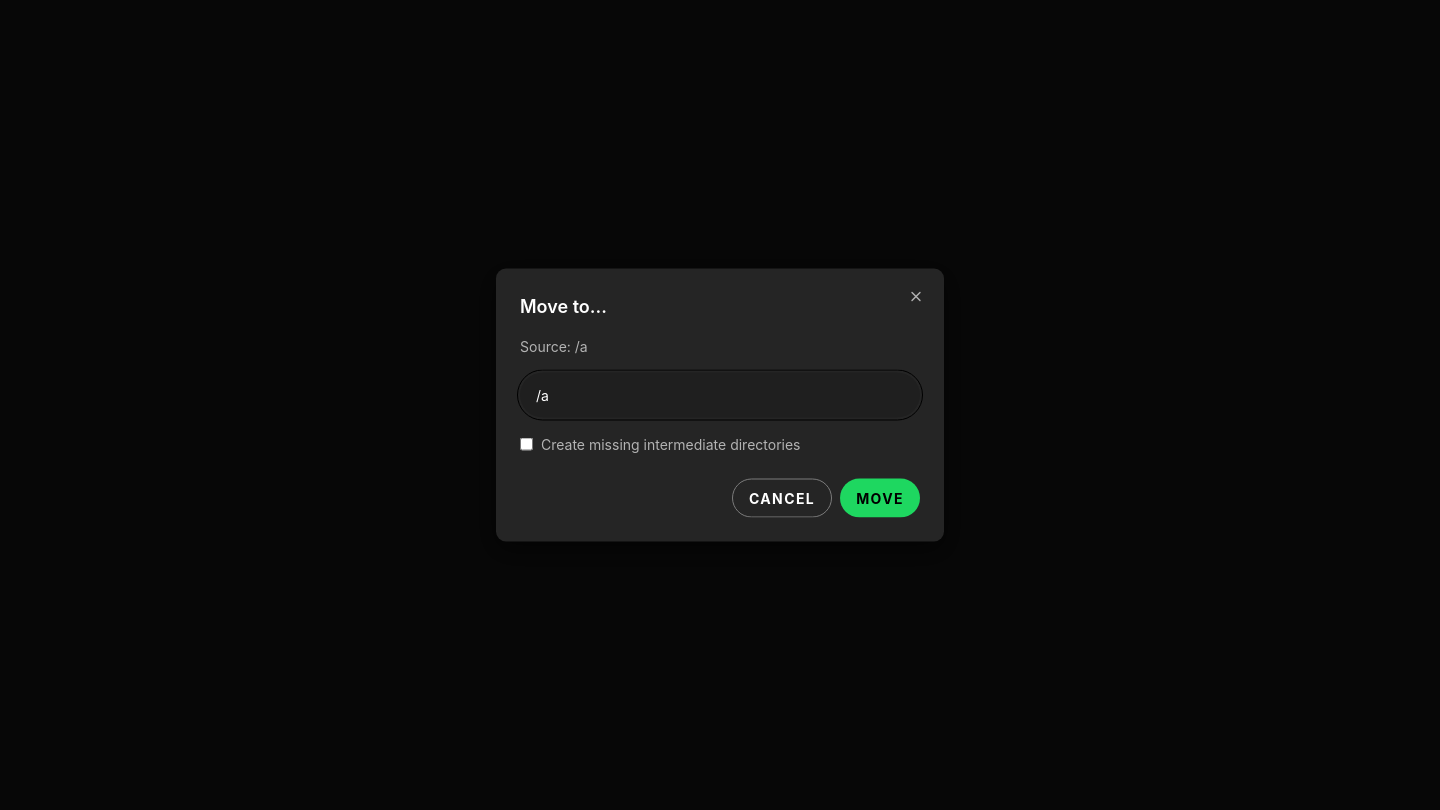
it: MoveCopyDialog › shows error when dest does not start with /
The width and height of the screenshot is (1440, 810).
Replace the text in the field with "relative/path" at (720, 395), box [520,372,920,418]
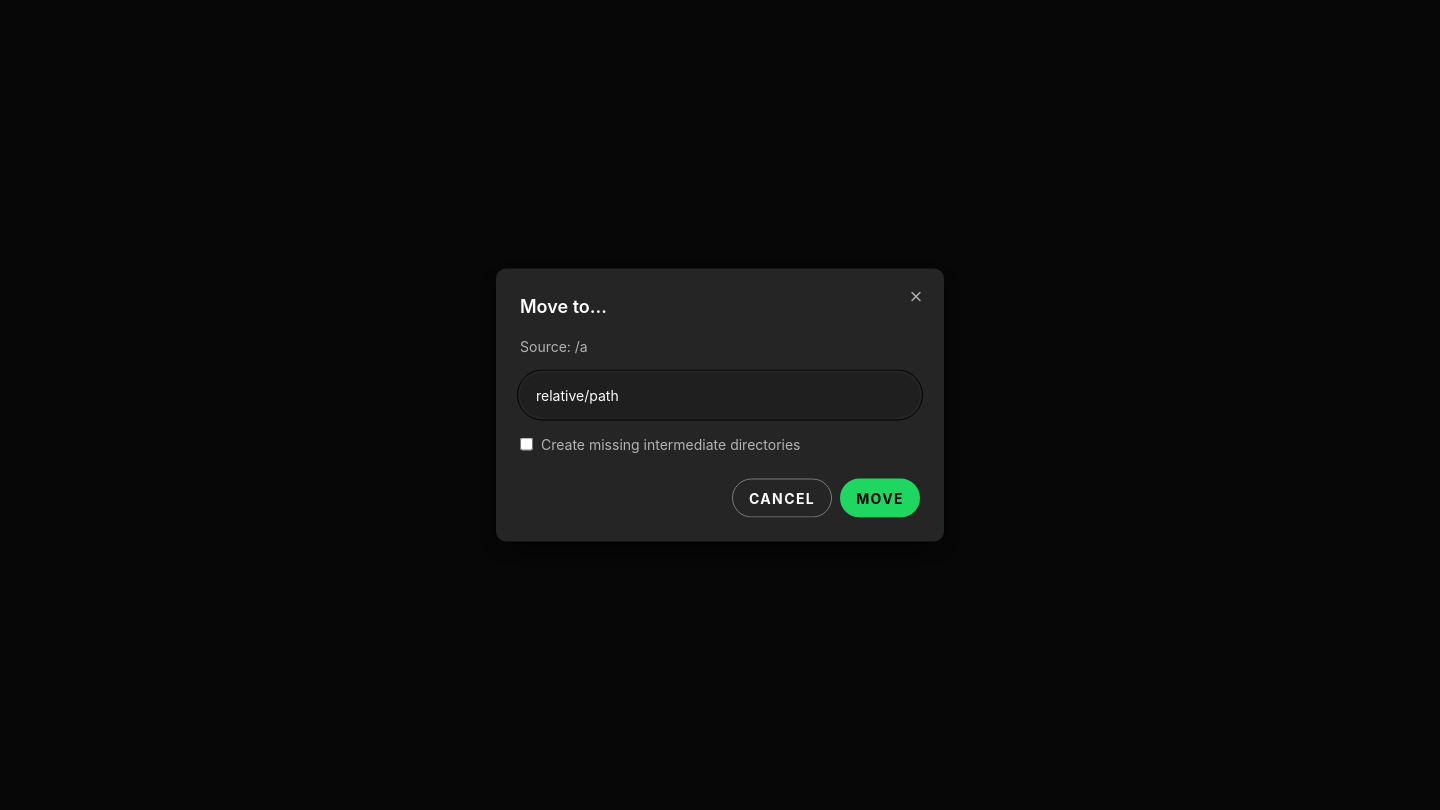
Click the button "Move" at (880, 498), box [840,478,920,518]
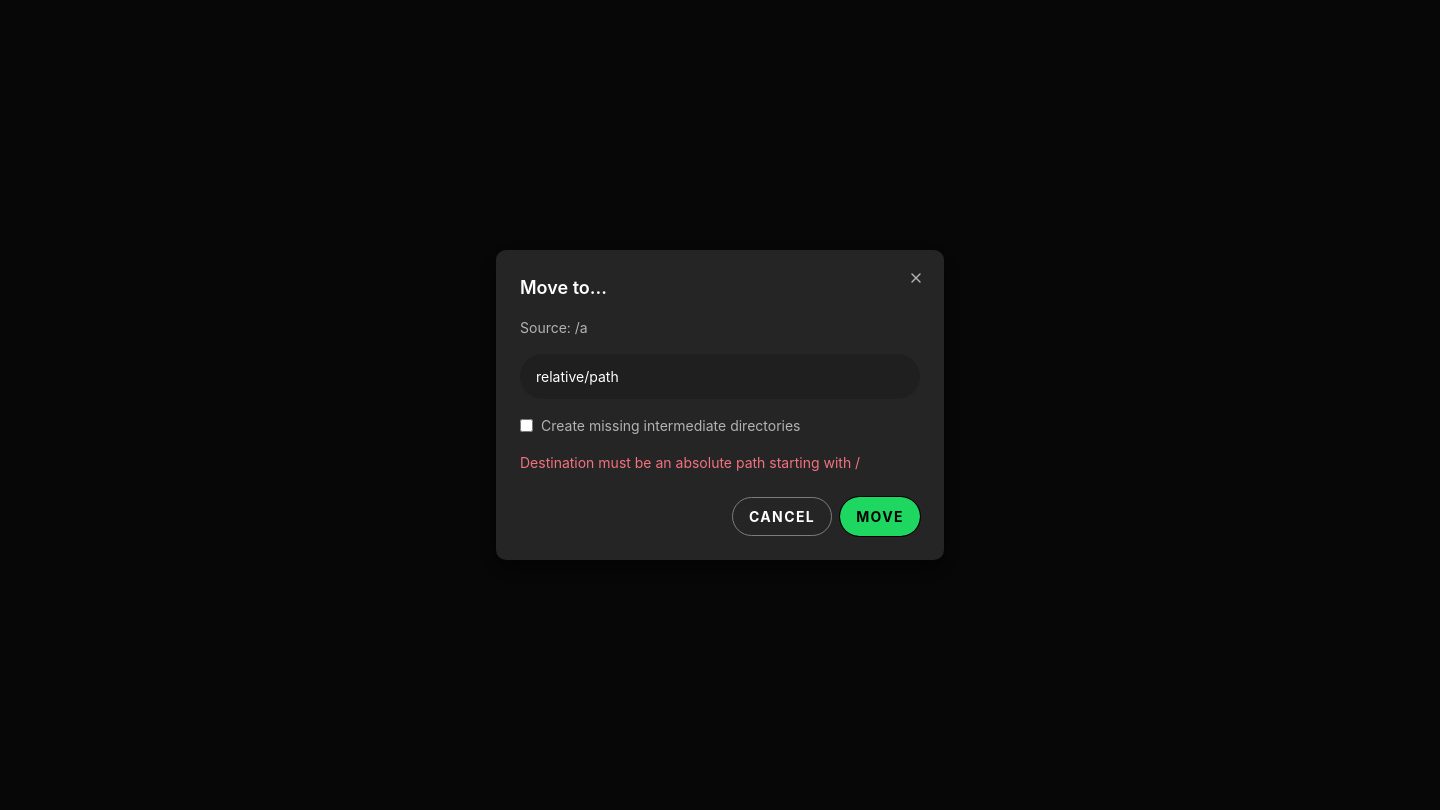
Expected: the text "Destination must be an absolute path starting with /" is shown, [520,452,920,473]
